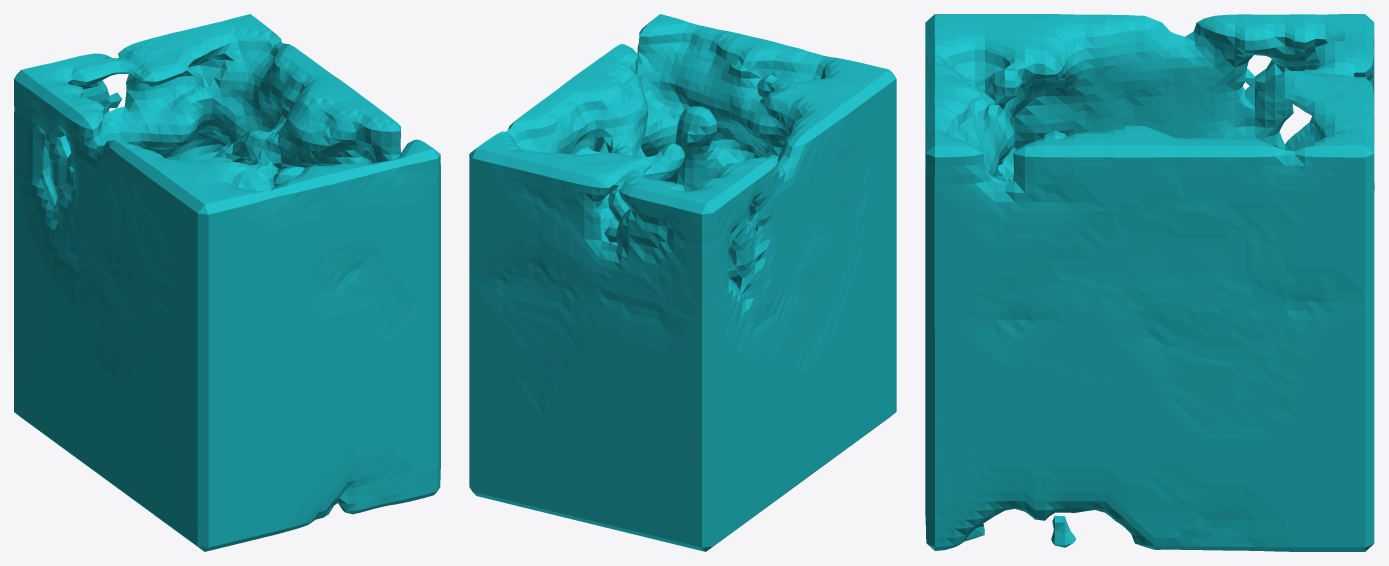
3 views of the same model, side by side, from view 1: azimuth 30°, elevation 25°; view 2: azimuth 150°, elevation 25°; view 3: azimuth 270°, elevation 25° (orthographic). The views are drawn at different scales.
Parts seen in each view (by area): view 1: Liquid_Domain; view 2: Liquid_Domain; view 3: Liquid_Domain.
Boxes of the visible parts, x1=… form: Liquid_Domain: x1=14, y1=14, x2=440, y2=551; Liquid_Domain: x1=469, y1=14, x2=896, y2=551; Liquid_Domain: x1=925, y1=14, x2=1374, y2=551.
Size of the model in its own units: 79.12 by 108 by 108.
